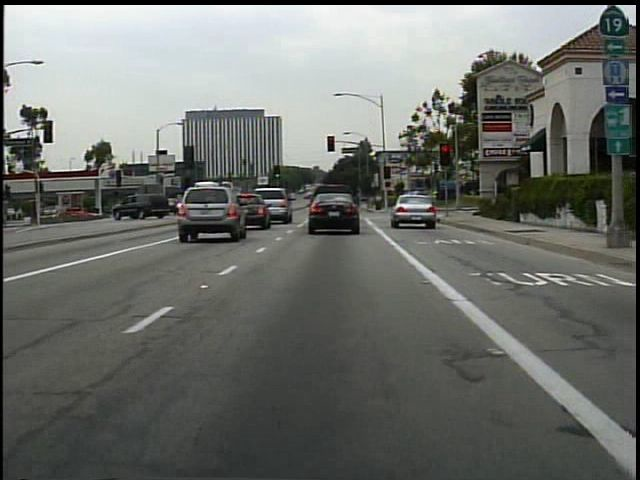person: (373, 192, 385, 213)
